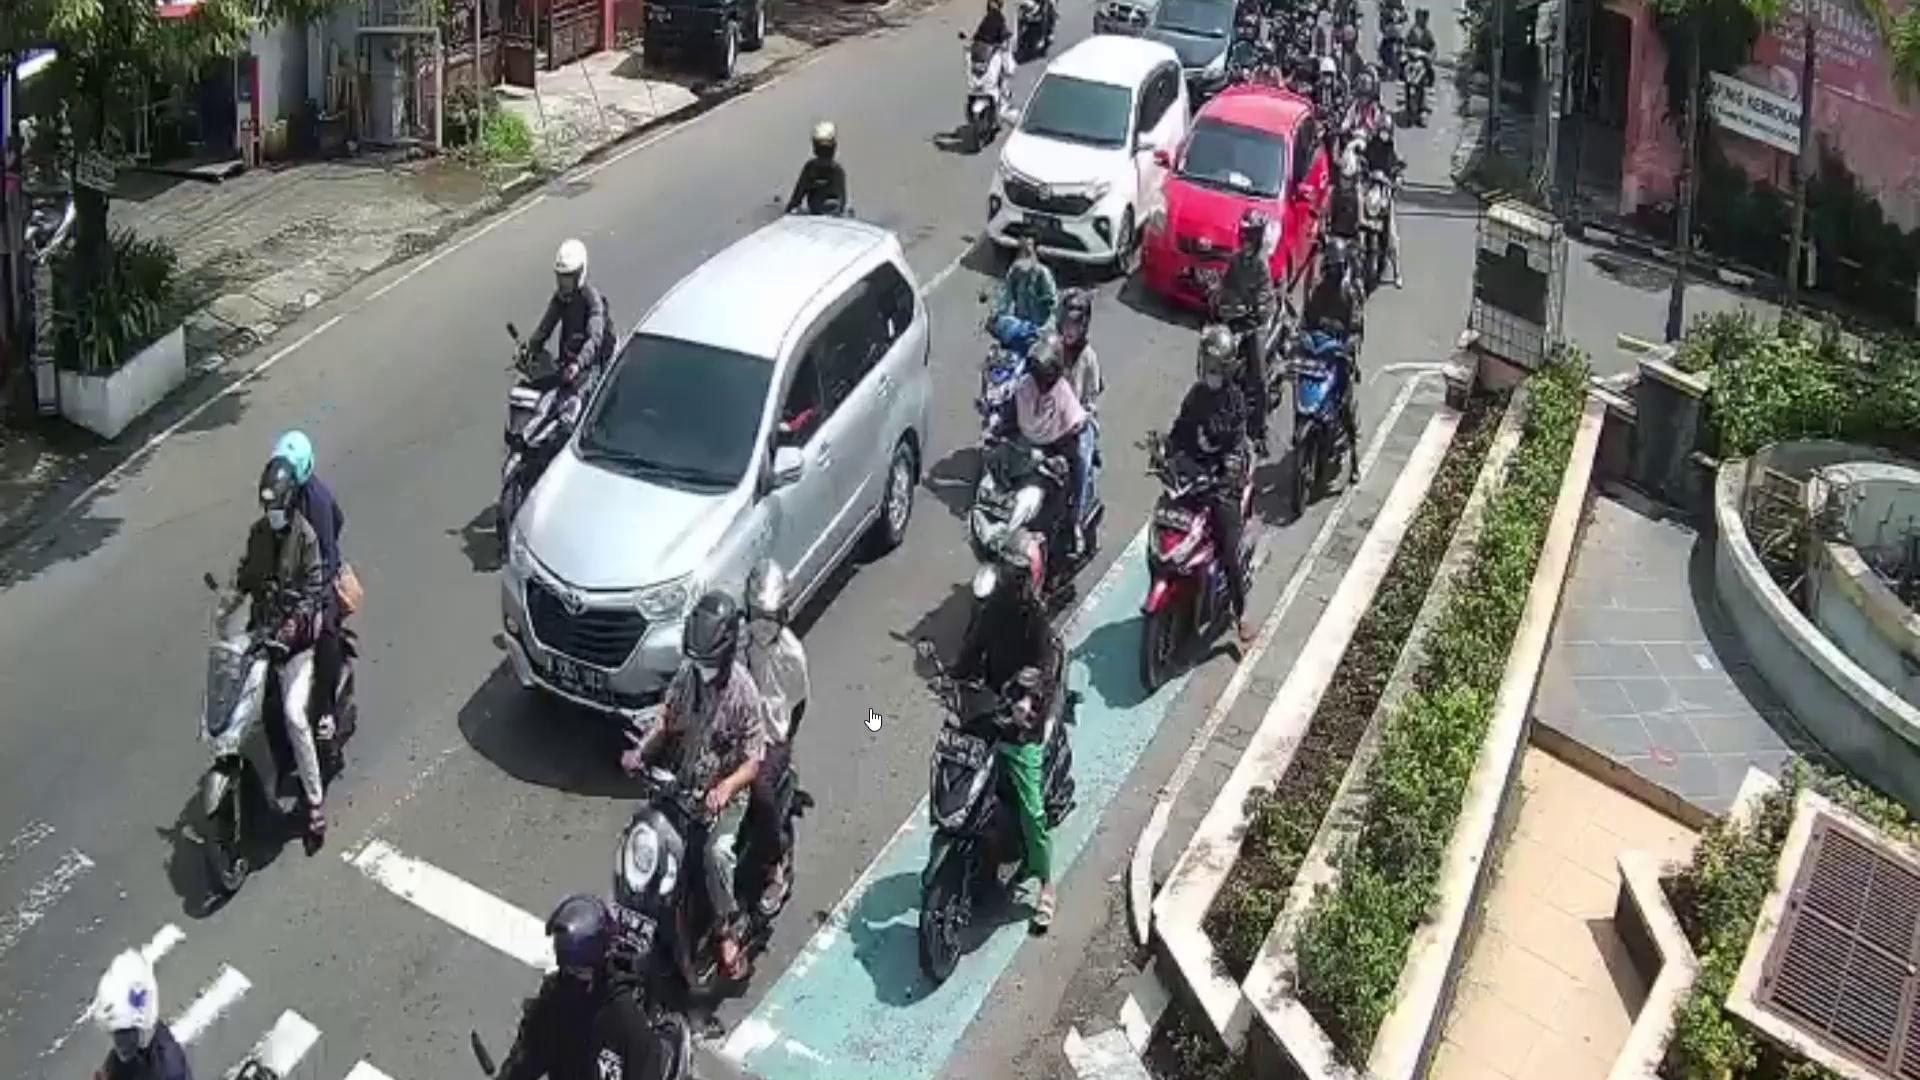car: (496, 214, 932, 721), (988, 36, 1193, 276), (1158, 80, 1337, 316), (1143, 0, 1262, 88)
motorbike: (915, 670, 1072, 986), (195, 612, 363, 897), (603, 769, 794, 993), (965, 435, 1100, 605), (1133, 463, 1226, 703), (1280, 332, 1345, 518)
